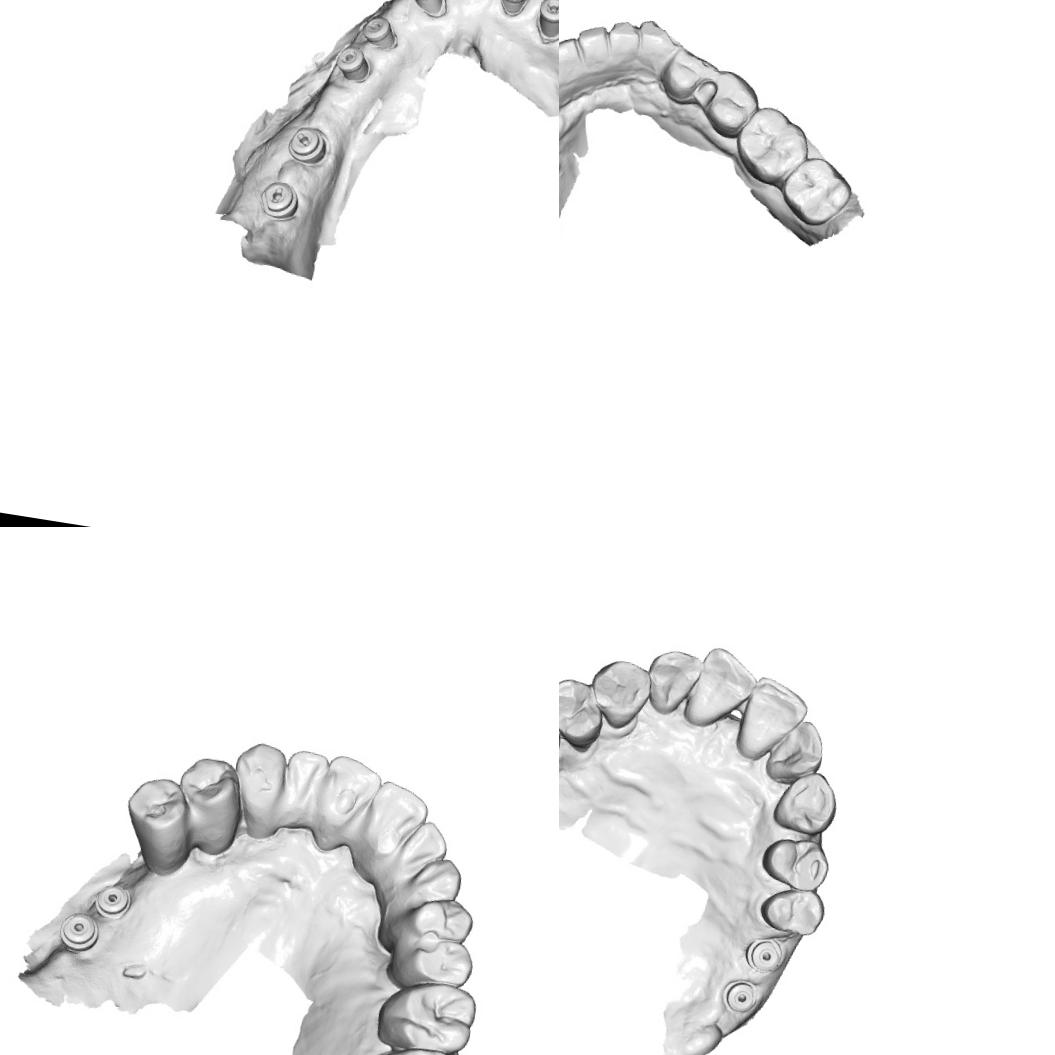canine: (583, 654, 655, 736), (768, 764, 844, 840), (227, 735, 291, 810), (404, 851, 467, 909), (632, 17, 684, 75)
implant: (740, 932, 789, 978), (56, 908, 102, 954), (720, 974, 764, 1018), (90, 880, 134, 920)
implant_minus: (256, 178, 302, 224), (284, 123, 330, 169), (332, 42, 374, 84), (360, 12, 402, 52)
implant_plus: (531, 0, 559, 47), (405, 0, 453, 21), (494, 0, 534, 20)
incisor: (730, 671, 814, 769), (680, 642, 764, 738), (360, 776, 434, 849), (759, 713, 829, 790), (642, 642, 708, 722), (318, 750, 388, 824), (278, 746, 334, 810), (394, 815, 451, 873), (604, 18, 644, 59), (574, 22, 608, 63), (559, 33, 579, 70)
molar: (374, 973, 482, 1055), (730, 102, 814, 190), (777, 152, 856, 230), (350, 1036, 462, 1055)
premolar: (121, 771, 196, 846), (756, 831, 835, 897), (392, 930, 476, 992), (700, 66, 764, 142), (174, 753, 244, 822), (754, 880, 830, 942), (559, 671, 612, 754), (402, 892, 479, 946), (656, 44, 717, 109)
